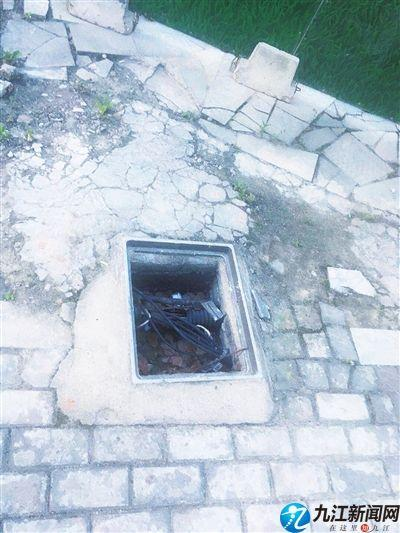lose: (97, 227, 278, 424)
